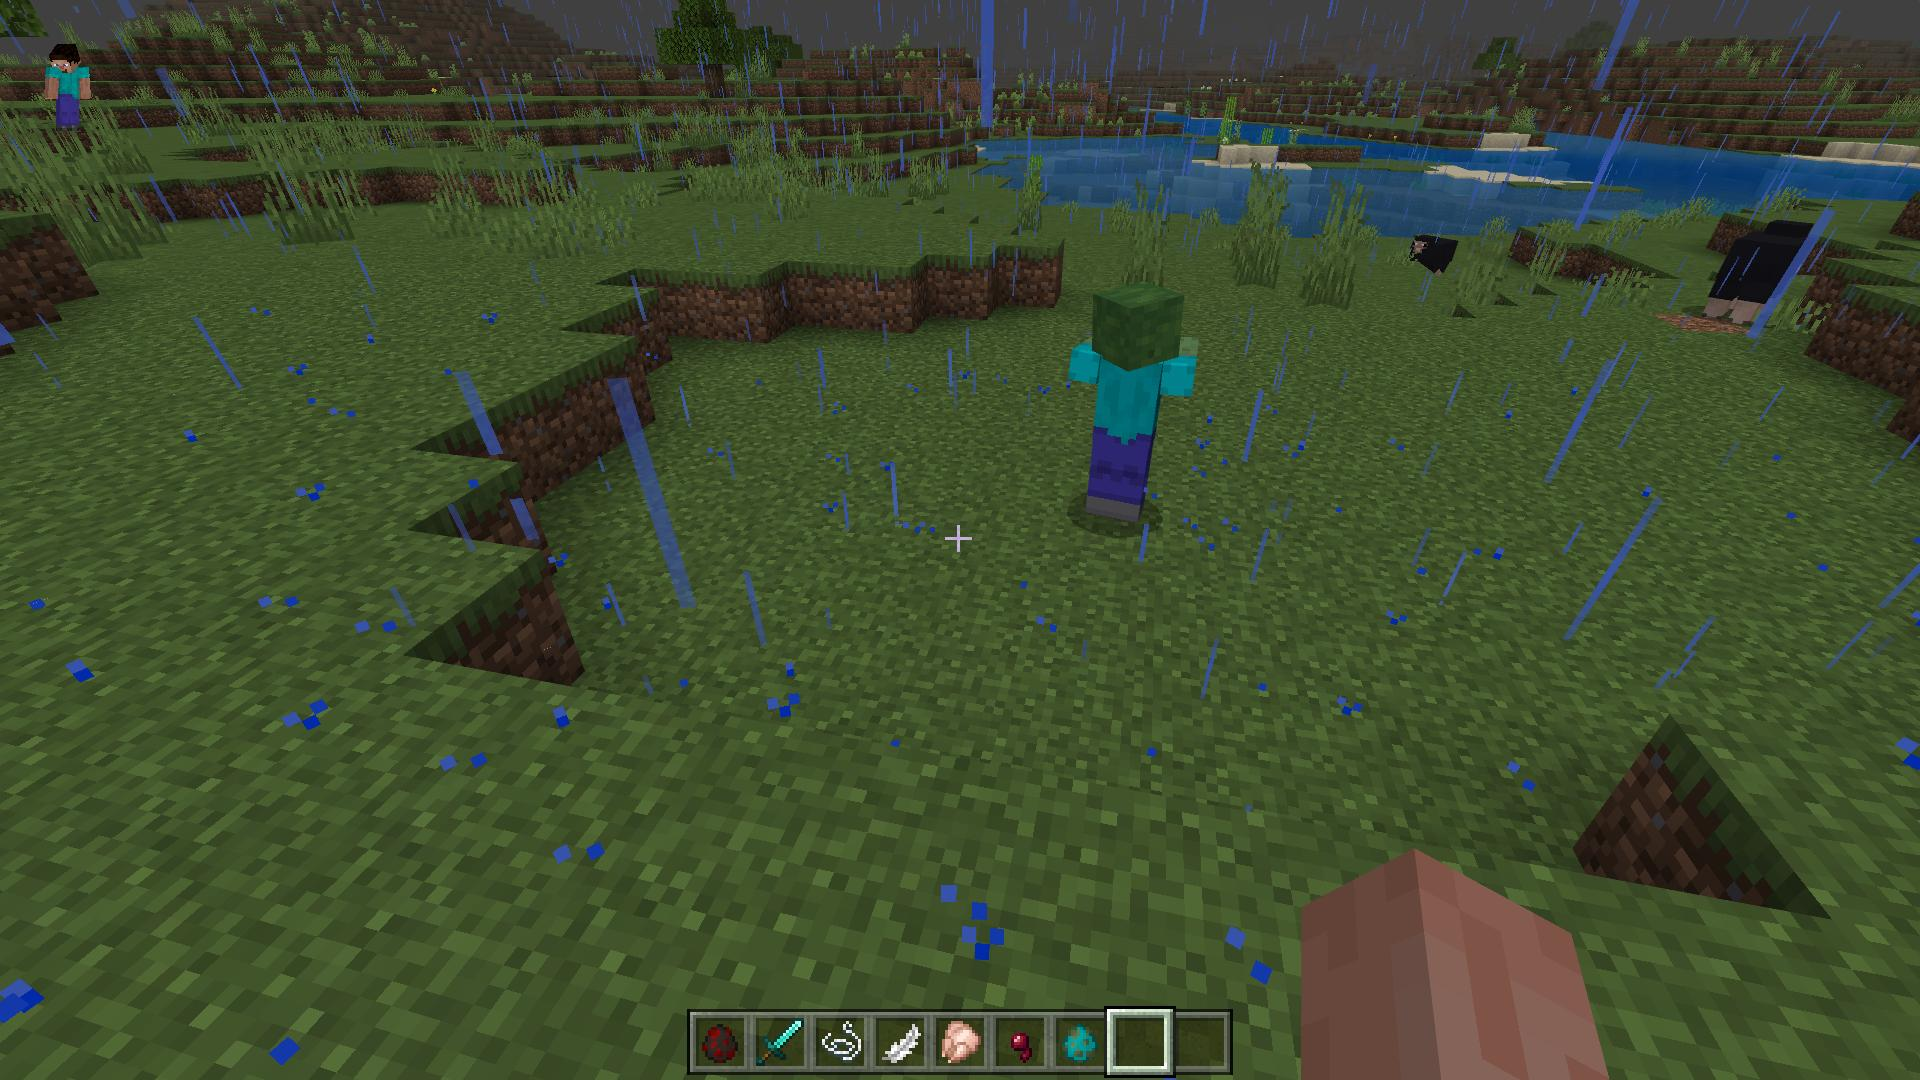zombie: (1069, 284, 1201, 529)
